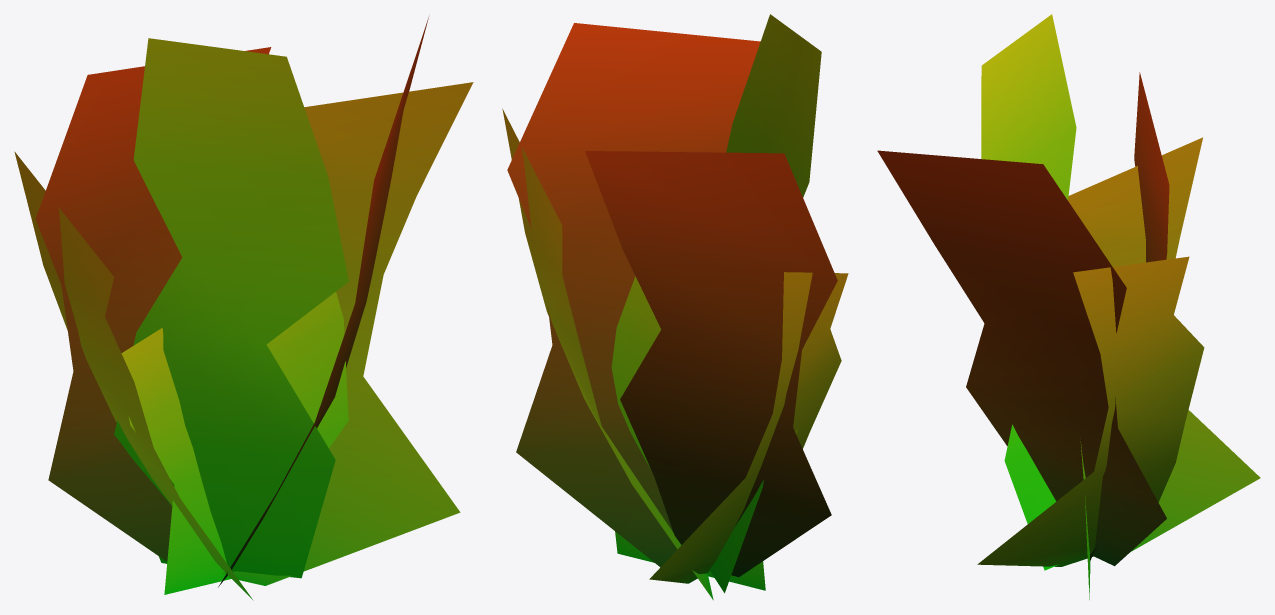
The model's file is Var8Hi12.fbx.
The picture shows the model from 3 angles, left to right: view 1: azimuth 30°, elevation 25°; view 2: azimuth 150°, elevation 25°; view 3: azimuth 270°, elevation 25°; orthographic projection. The views are drawn at different scales.
Parts seen in each view (by area): view 1: bend1; view 2: bend1; view 3: bend1.
Boxes of the visible parts, <box> form: bend1: <box>14,17,473,600</box>; bend1: <box>502,14,848,600</box>; bend1: <box>877,14,1260,599</box>.
Size of the model in its own units: 1.27 by 1.76 by 1.22.
